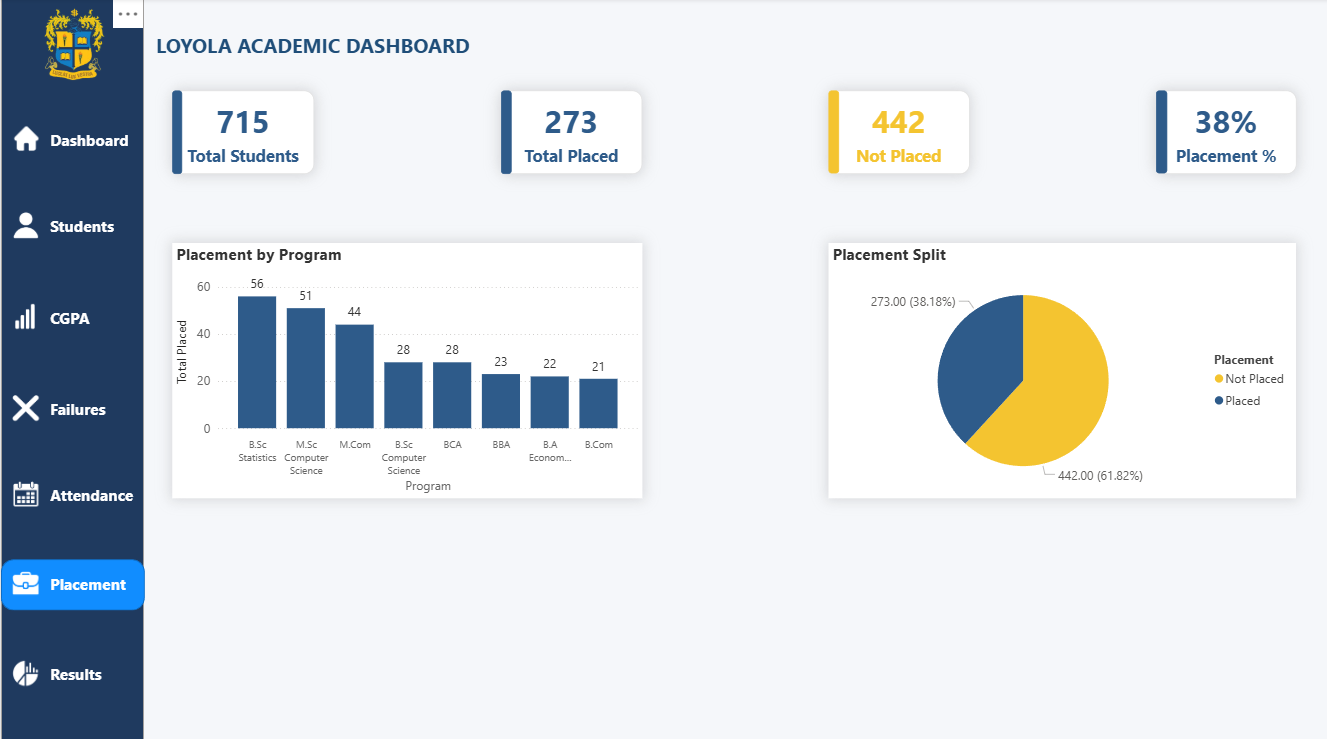

The dashboard page shown, as its layout file describes it:
{"tool":"powerbi","page":{"name":"Placement","canvas":[1600,900],"ordinal":5},"visuals":[{"type":"shape","box":[0,0,171.9,900.3],"z":0},{"type":"textbox","box":[173.4,36.2,405.7,64.8],"z":1000},{"type":"image","box":[12.9,257.2,33.2,33.2],"z":1000,"group":"g5"},{"type":"image","box":[39.2,9,98,95],"z":2000},{"type":"card","fields":{"Values":["students.Total Students"]},"box":[206.6,111.6,171.3,101],"z":3000,"group":"g1"},{"type":"card","fields":{"Values":["students.Placement %"]},"box":[1393.4,111.6,169.5,101],"z":3000,"group":"g9"},{"type":"card","fields":{"Values":["students.Not Placed"]},"box":[998.3,111.6,170.2,101],"z":4000,"group":"g3"},{"type":"image","box":[12.9,367.3,33.2,33.2],"z":4000,"group":"g6"},{"type":"card","fields":{"Values":["students.Total Placed"]},"box":[602.8,111.7,170.2,101],"z":5000,"group":"g2"},{"type":"pieChart","title":"Placement Split","fields":{"Category":["students.Placement"],"Y":["CountNonNull(students.RollNo)"]},"box":[998.3,296.2,564,307.6],"z":6000},{"type":"image","box":[12.9,477.4,33.2,33.2],"z":6000,"group":"g7"},{"type":"clusteredColumnChart","title":"Placement by Program","fields":{"Category":["students.Program"],"Y":["students.Total Placed"]},"box":[206.6,296.2,567,307.6],"z":7000},{"type":"image","box":[12.9,583,33.2,33.2],"z":8000,"group":"g8"},{"type":"group","id":"g1","title":"Group 1","box":[206.6,111.6,171.3,101.1],"z":9000},{"type":"group","id":"g2","title":"Group 2","box":[602.8,111.4,170.2,101.2],"z":10000},{"type":"image","box":[12.9,688.5,33.2,33.2],"z":10000,"group":"g12"},{"type":"group","id":"g3","title":"Group 3","box":[998,111.6,170.5,101],"z":11000},{"type":"group","id":"g4","title":"Group 4","box":[1393.4,111.6,170.4,101],"z":12000},{"type":"image","box":[12.9,797.1,33.2,33.2],"z":12000,"group":"g10"},{"type":"group","id":"g5","title":"Group 8","box":[12.9,257.2,136.1,40.2],"z":13000},{"type":"group","id":"g6","title":"Group 9","box":[12.9,367.3,101.8,40.2],"z":14000},{"type":"shape","title":"Shape1","box":[0,677.1,173.4,61.8],"z":14000,"group":"g13"},{"type":"image","title":"Home","box":[12.9,153.2,33.2,31.7],"z":15000,"group":"g11"},{"type":"group","id":"g7","title":"Group 10","box":[12.9,477.4,136.1,40.1],"z":15000},{"type":"shape","box":[998,111.8,12.7,100],"z":16000,"group":"g3"},{"type":"group","id":"g8","title":"Group 11","box":[12.9,582.5,160.2,39.7],"z":16000},{"type":"group","id":"g9","title":"Group 5","box":[1393.4,111.6,169.5,101],"z":16001,"group":"g4"},{"type":"shape","box":[206.8,111.8,12.4,101],"z":17000,"group":"g1"},{"type":"shape","box":[1393.7,112,13.6,100],"z":17000,"group":"g9"},{"type":"group","id":"g10","title":"Group 13","box":[12.9,797,114.4,39.7],"z":17000},{"type":"shape","box":[602.9,111.4,12.5,100.8],"z":18000,"group":"g2"},{"type":"group","id":"g11","title":"Group 6","box":[12.9,153.2,148.7,39.7],"z":18000},{"type":"group","id":"g12","title":"Group 12","box":[12.9,688.5,150.5,40],"z":18000,"group":"g13"},{"type":"group","id":"g13","title":"Group 7","box":[0,677.1,173.4,61.8],"z":19000},{"type":"textbox","box":[53.4,153.2,108.2,39.7],"z":24000,"group":"g11"},{"type":"textbox","box":[53.4,257.8,95.6,39.7],"z":25000,"group":"g5"},{"type":"textbox","box":[53.4,367.8,61.3,39.7],"z":26000,"group":"g6"},{"type":"textbox","box":[53.4,477.8,95.6,39.7],"z":27000,"group":"g7"},{"type":"textbox","box":[54.1,582.5,119,39.7],"z":28000,"group":"g8"},{"type":"textbox","box":[53.4,688.8,110,39.7],"z":29000,"group":"g12"},{"type":"textbox","box":[53.4,797,73.9,39.7],"z":30000,"group":"g10"}]}

Visuals, with their boxes on the page's 1600x900 design canvas (x1, y1, x2, y2). These are canvas units, not pixel positions in the 1327x739 screenshot, which may show the page scaled, cropped or inside an application window:
shape: bbox=(0, 0, 172, 900)
textbox: bbox=(173, 36, 579, 101)
image: bbox=(13, 257, 46, 290)
image: bbox=(39, 9, 137, 104)
card - students.Total Students: bbox=(207, 112, 378, 213)
card - students.Placement %: bbox=(1393, 112, 1563, 213)
card - students.Not Placed: bbox=(998, 112, 1168, 213)
image: bbox=(13, 367, 46, 400)
card - students.Total Placed: bbox=(603, 112, 773, 213)
"Placement Split" pieChart: bbox=(998, 296, 1562, 604)
image: bbox=(13, 477, 46, 511)
"Placement by Program" clusteredColumnChart: bbox=(207, 296, 774, 604)
image: bbox=(13, 583, 46, 616)
"Group 1" group: bbox=(207, 112, 378, 213)
"Group 2" group: bbox=(603, 111, 773, 213)
image: bbox=(13, 688, 46, 722)
"Group 3" group: bbox=(998, 112, 1168, 213)
"Group 4" group: bbox=(1393, 112, 1564, 213)
image: bbox=(13, 797, 46, 830)
"Group 8" group: bbox=(13, 257, 149, 297)
"Group 9" group: bbox=(13, 367, 115, 408)
"Shape1" shape: bbox=(0, 677, 173, 739)
"Home" image: bbox=(13, 153, 46, 185)
"Group 10" group: bbox=(13, 477, 149, 518)
shape: bbox=(998, 112, 1011, 212)
"Group 11" group: bbox=(13, 582, 173, 622)
"Group 5" group: bbox=(1393, 112, 1563, 213)
shape: bbox=(207, 112, 219, 213)
shape: bbox=(1394, 112, 1407, 212)
"Group 13" group: bbox=(13, 797, 127, 837)
shape: bbox=(603, 111, 615, 212)
"Group 6" group: bbox=(13, 153, 162, 193)
"Group 12" group: bbox=(13, 688, 163, 728)
"Group 7" group: bbox=(0, 677, 173, 739)
textbox: bbox=(53, 153, 162, 193)
textbox: bbox=(53, 258, 149, 298)
textbox: bbox=(53, 368, 115, 408)
textbox: bbox=(53, 478, 149, 518)
textbox: bbox=(54, 582, 173, 622)
textbox: bbox=(53, 689, 163, 728)
textbox: bbox=(53, 797, 127, 837)
